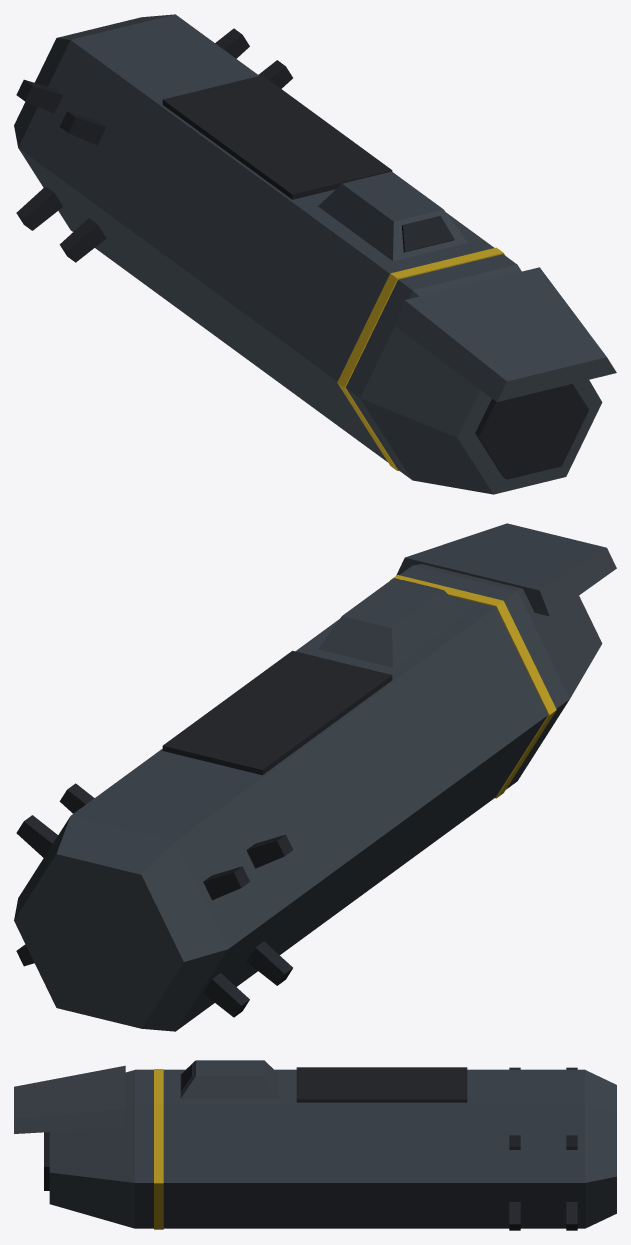
The model's file is bt4_emitter.obj.
3 renders of one model, top to bottom at view 1: azimuth 30°, elevation 25°; view 2: azimuth 150°, elevation 25°; view 3: azimuth 270°, elevation 25°, orthographic. The views are drawn at different scales.
Parts seen in each view (by area): view 1: bt4_emitter; view 2: bt4_emitter; view 3: bt4_emitter.
Part boxes in pixels (x1,y1,x2,y2): bt4_emitter: [14, 14, 616, 494]; bt4_emitter: [14, 523, 616, 1031]; bt4_emitter: [14, 1060, 616, 1230].
Bounding box in the file's own units: 0.9011 × 0.8391 × 3.17.
